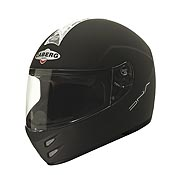helmet: (30, 19, 155, 140)
